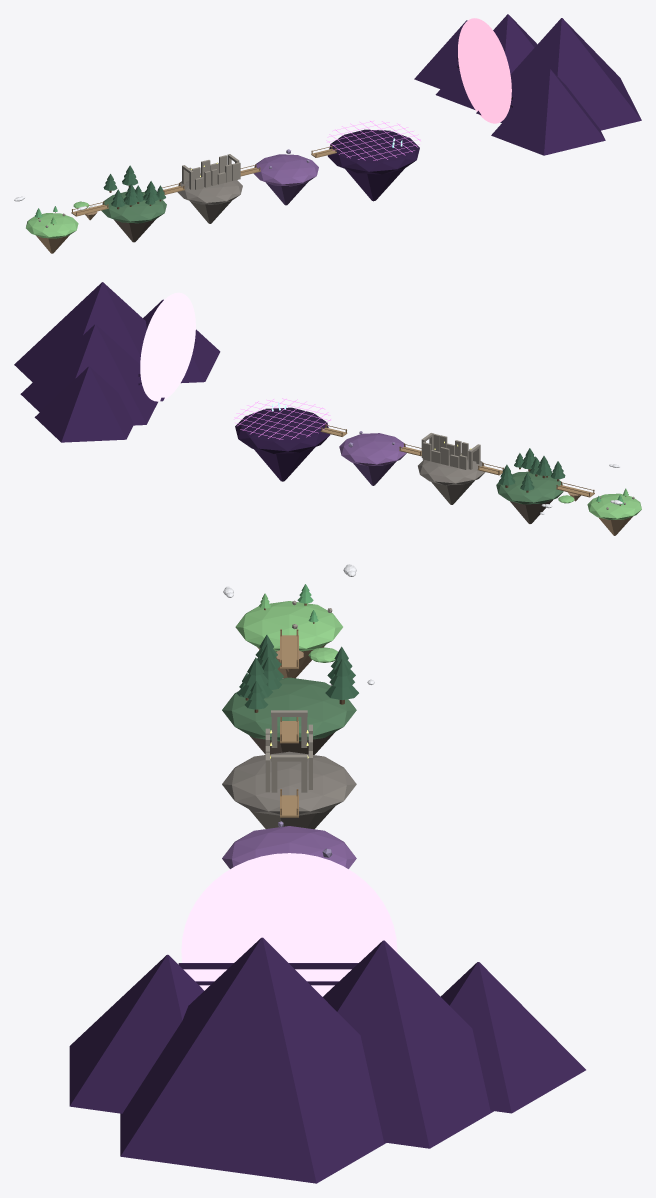
File: afterglow_world.glb
The picture shows the model from 3 angles, top to bottom: view 1: azimuth 30°, elevation 25°; view 2: azimuth 150°, elevation 25°; view 3: azimuth 270°, elevation 25°; orthographic projection. The views are drawn at different scales.
Parts seen in each view (by area): view 1: Cone.055, Cone.053, Circle, Icosphere.021, Cone.054, Icosphere.017, Cone.056, Icosphere.015, Icosphere.016, Icosphere, Cone.047, Cone.039 (+2 smaller); view 2: Cone.054, Cone.055, Cone.056, Circle, Icosphere.021, Icosphere.017, Icosphere.015, Cone.053, Icosphere.016, Icosphere, Cone.047, Cone.039 (+2 smaller); view 3: Cone.055, Cone.054, Circle, Cone.053, Cone.056, Icosphere.016, Icosphere.015, Icosphere, Icosphere.017, Cone.039.
Part boxes in pixels (<box>): Cone.055: <box>476,18,641,130</box>; Cone.053: <box>491,69,605,155</box>; Circle: <box>458,18,511,123</box>; Icosphere.021: <box>327,129,419,174</box>; Cone.054: <box>435,14,537,109</box>; Icosphere.017: <box>253,154,318,186</box>; Cone.056: <box>414,20,467,89</box>; Icosphere.015: <box>101,191,166,223</box>; Icosphere.016: <box>177,173,242,204</box>; Icosphere: <box>26,213,78,238</box>; Cone.047: <box>345,168,404,201</box>; Cone.039: <box>190,201,231,223</box>; Cone.054: <box>20,324,157,425</box>; Cone.055: <box>14,282,164,401</box>; Cone.056: <box>34,366,133,442</box>; Circle: <box>140,292,195,401</box>; Icosphere.021: <box>235,407,330,453</box>; Icosphere.017: <box>339,433,406,466</box>; Icosphere.015: <box>496,471,563,504</box>; Cone.053: <box>143,299,220,383</box>; Icosphere.016: <box>418,453,485,485</box>; Icosphere: <box>587,493,641,519</box>; Cone.047: <box>254,447,315,481</box>; Cone.039: <box>431,480,474,504</box>; Cone.055: <box>120,937,386,1183</box>; Cone.054: <box>323,940,493,1148</box>; Circle: <box>181,853,397,996</box>; Cone.053: <box>69,954,203,1113</box>; Cone.056: <box>440,962,585,1113</box>; Icosphere.016: <box>222,751,356,815</box>; Icosphere.015: <box>222,677,356,741</box>; Icosphere: <box>235,601,342,651</box>; Icosphere.017: <box>222,826,356,868</box>; Cone.039: <box>249,806,334,829</box>.
Size of the model in its own units: 102 by 24.7 by 38.28.
